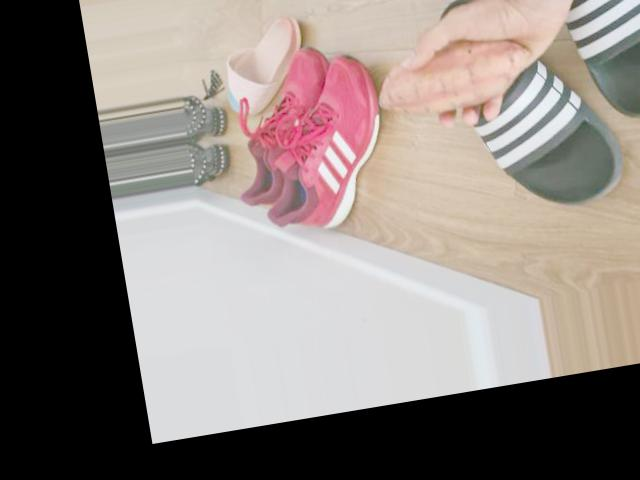sweet_potato: (372, 33, 538, 123)
